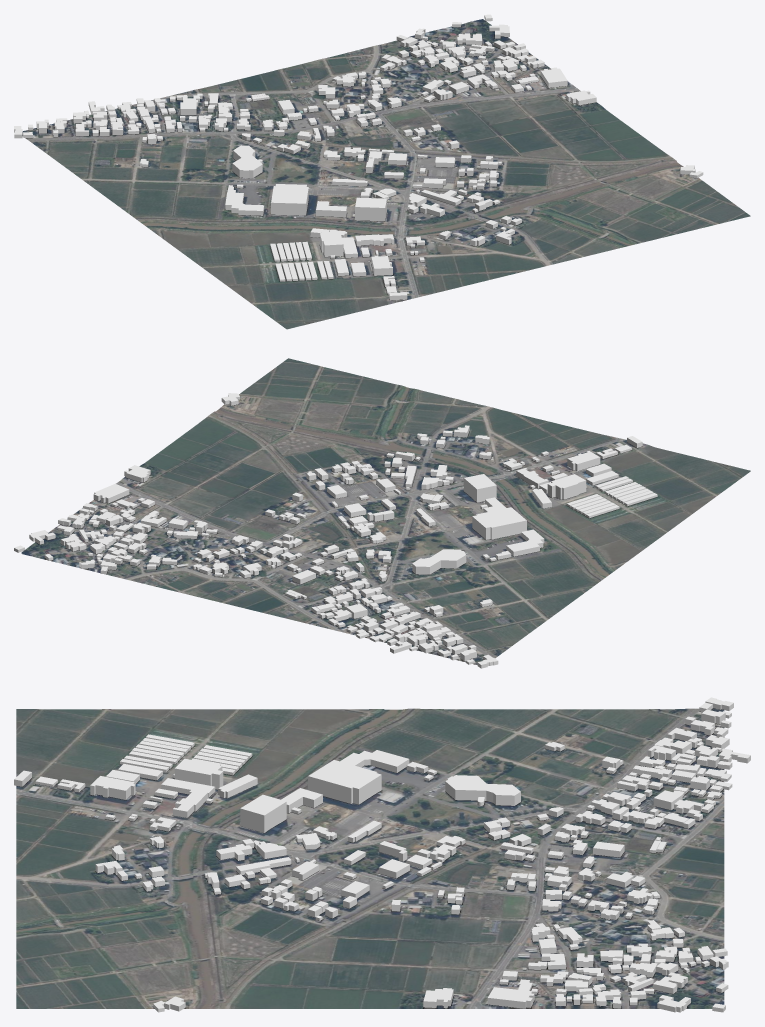
Rendered from sanbouyama.glb.
3 views of the same model, one above another, from view 1: azimuth 30°, elevation 25°; view 2: azimuth 150°, elevation 25°; view 3: azimuth 270°, elevation 25° (orthographic). The views are drawn at different scales.
Parts seen in each view (by area): view 1: GeoTiff, Building, Flat Plane; view 2: GeoTiff, Building, Flat Plane; view 3: GeoTiff, Building, Flat Plane.
Part boxes in pixels (left/top/right/bottom): GeoTiff: left=22, top=19, right=750, bottom=328; Building: left=14, top=14, right=703, bottom=300; Flat Plane: left=22, top=135, right=707, bottom=329; GeoTiff: left=21, top=358, right=750, bottom=663; Building: left=14, top=393, right=657, bottom=668; Flat Plane: left=21, top=387, right=750, bottom=664; GeoTiff: left=16, top=708, right=724, bottom=1008; Building: left=14, top=697, right=750, bottom=1012; Flat Plane: left=16, top=709, right=712, bottom=1008.
Size of the model in its own units: 722 by 22.02 by 724.
3 materials, 2 textured.
